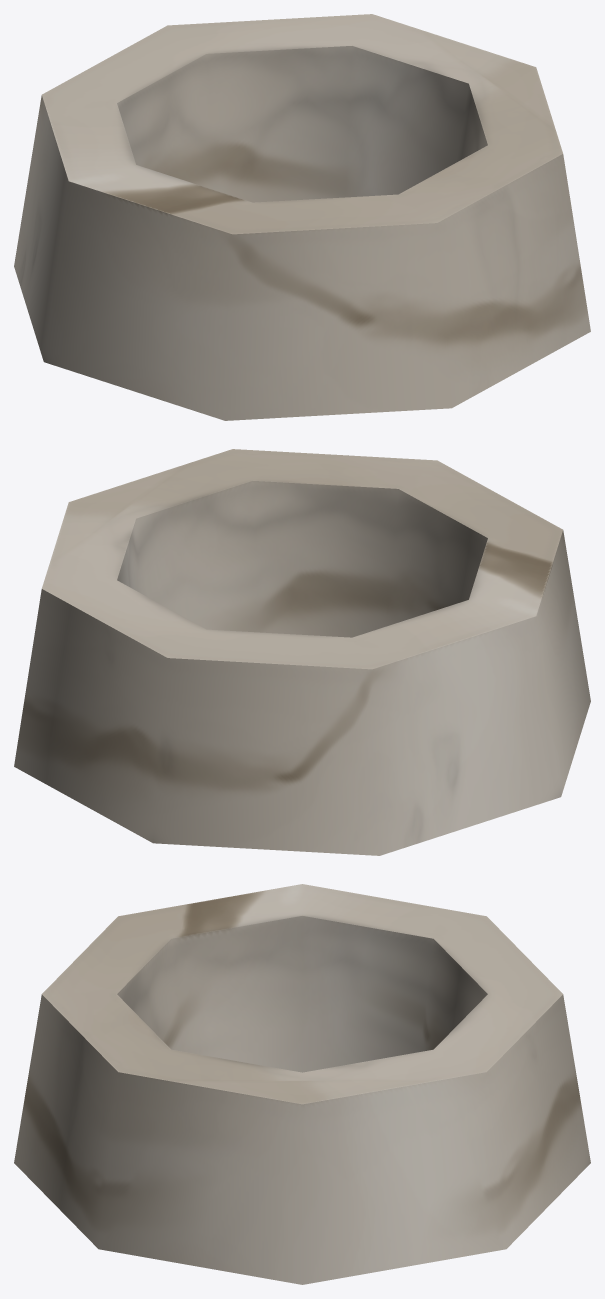
Rendered from Egypt_Village_Props_27.FBX.
3 views of the same model, one above another, from view 1: azimuth 30°, elevation 25°; view 2: azimuth 150°, elevation 25°; view 3: azimuth 270°, elevation 25° (orthographic). The views are drawn at different scales.
Parts seen in each view (by area): view 1: Egypt_Village_Props_27; view 2: Egypt_Village_Props_27; view 3: Egypt_Village_Props_27.
Part boxes in pixels (bbox=[...]): Egypt_Village_Props_27: bbox=[14, 14, 590, 420]; Egypt_Village_Props_27: bbox=[14, 449, 590, 855]; Egypt_Village_Props_27: bbox=[14, 884, 590, 1284].
Bounding box in the file's own units: 180 × 57.99 × 180.
